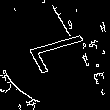L_E: (14, 31, 96, 79)
